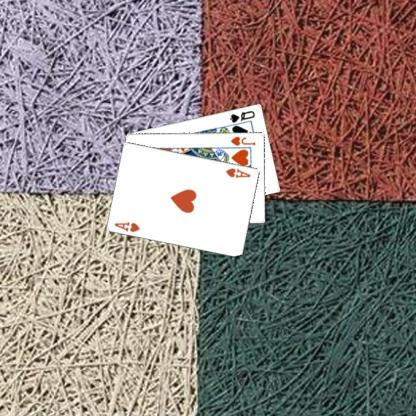AH: (223, 165, 252, 179), (112, 219, 141, 233)
JH: (228, 134, 256, 146)
QS: (227, 108, 256, 124)
